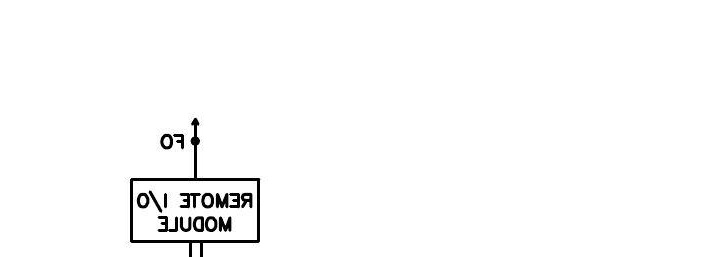remote_io_module: (130, 178, 261, 243)
